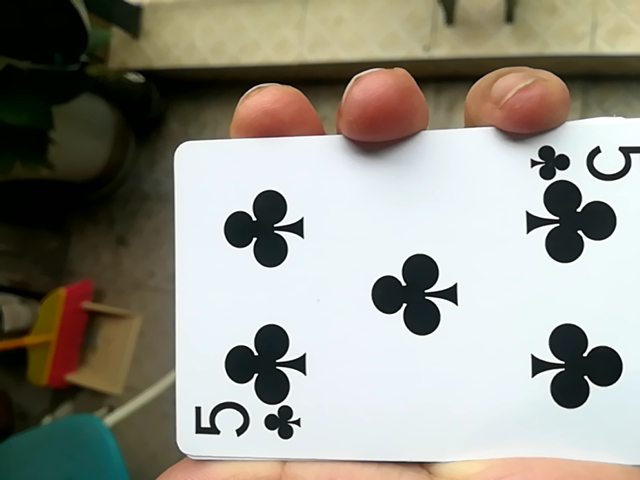mh 5: (162, 120, 636, 469)
